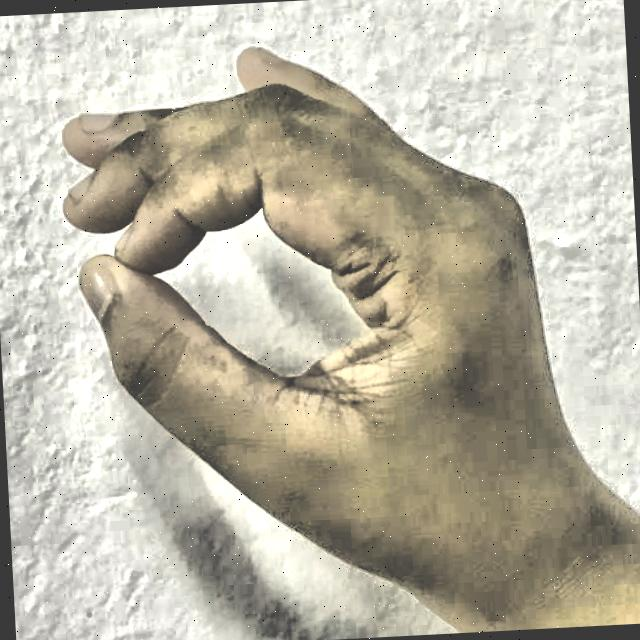Yo: (32, 11, 609, 640)
